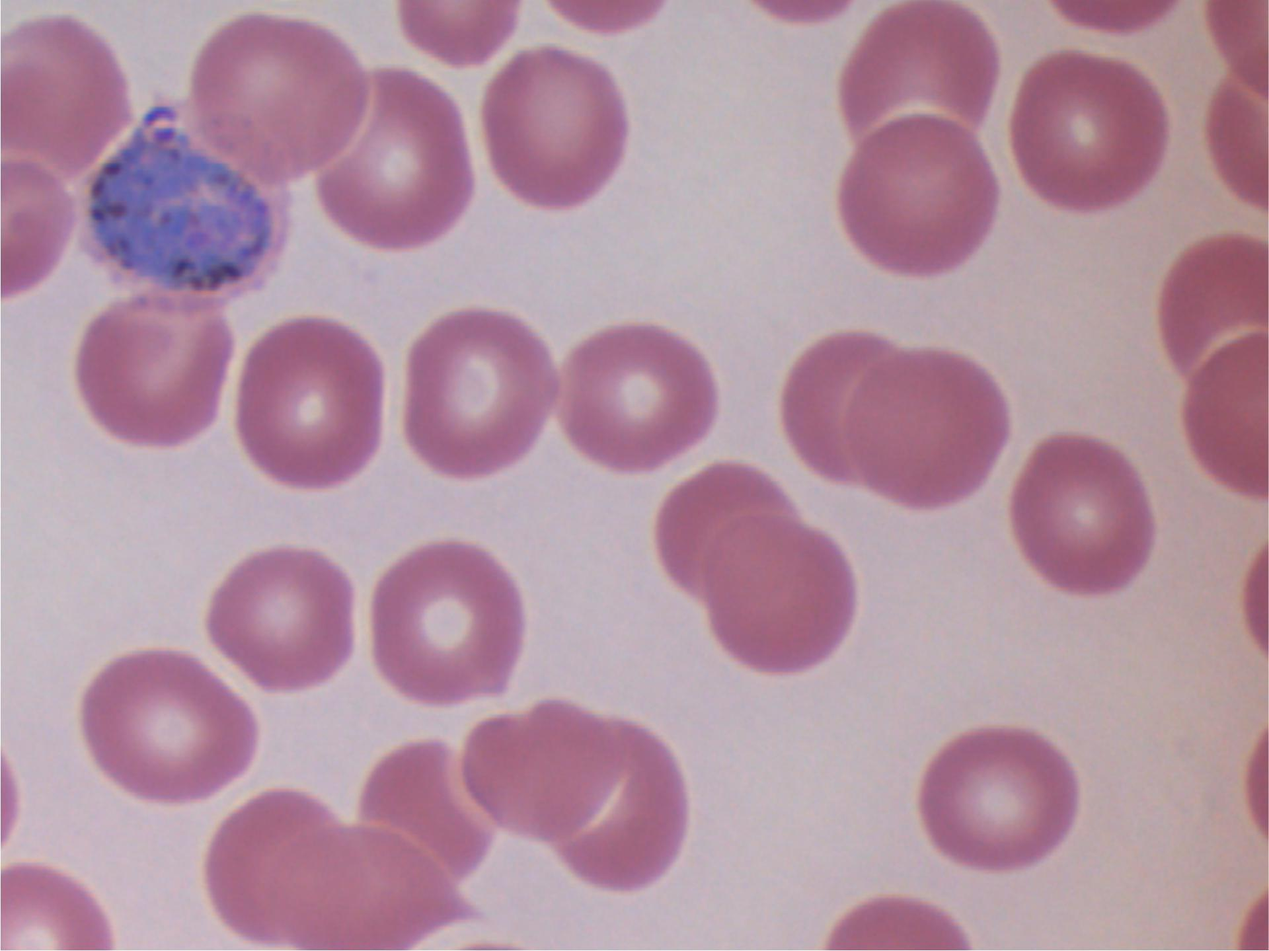Infected: (68, 93, 292, 315)
Uninfected: (185, 10, 369, 184), (317, 63, 476, 247), (79, 650, 259, 801), (367, 537, 526, 706), (839, 109, 998, 276), (410, 304, 558, 483), (1011, 48, 1166, 216), (271, 826, 479, 951), (849, 346, 1009, 508), (73, 296, 238, 450), (233, 319, 381, 489), (839, 0, 1001, 151), (1008, 433, 1153, 599), (459, 701, 628, 843), (482, 47, 625, 214), (707, 516, 855, 676), (549, 722, 691, 888), (921, 727, 1080, 875), (0, 17, 134, 185), (567, 324, 718, 473), (357, 739, 512, 882), (205, 542, 354, 690), (656, 466, 806, 608), (208, 792, 340, 949), (783, 324, 904, 488), (1162, 232, 1269, 384), (1183, 331, 1269, 497)
